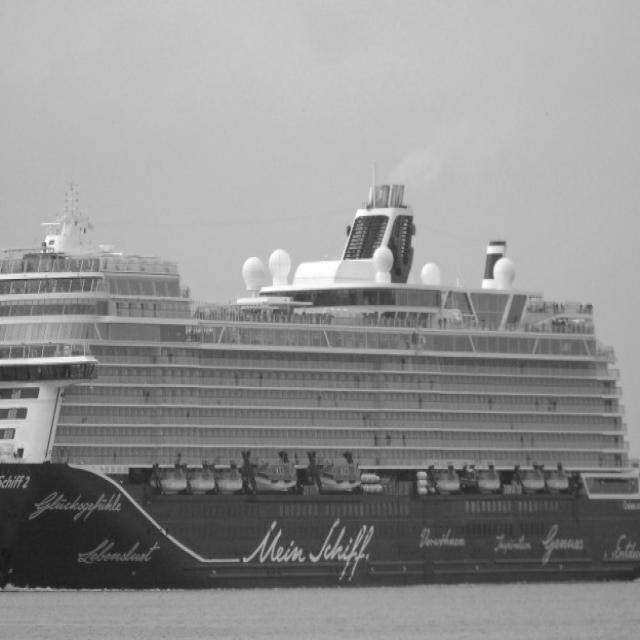cruises: (1, 175, 640, 607)
